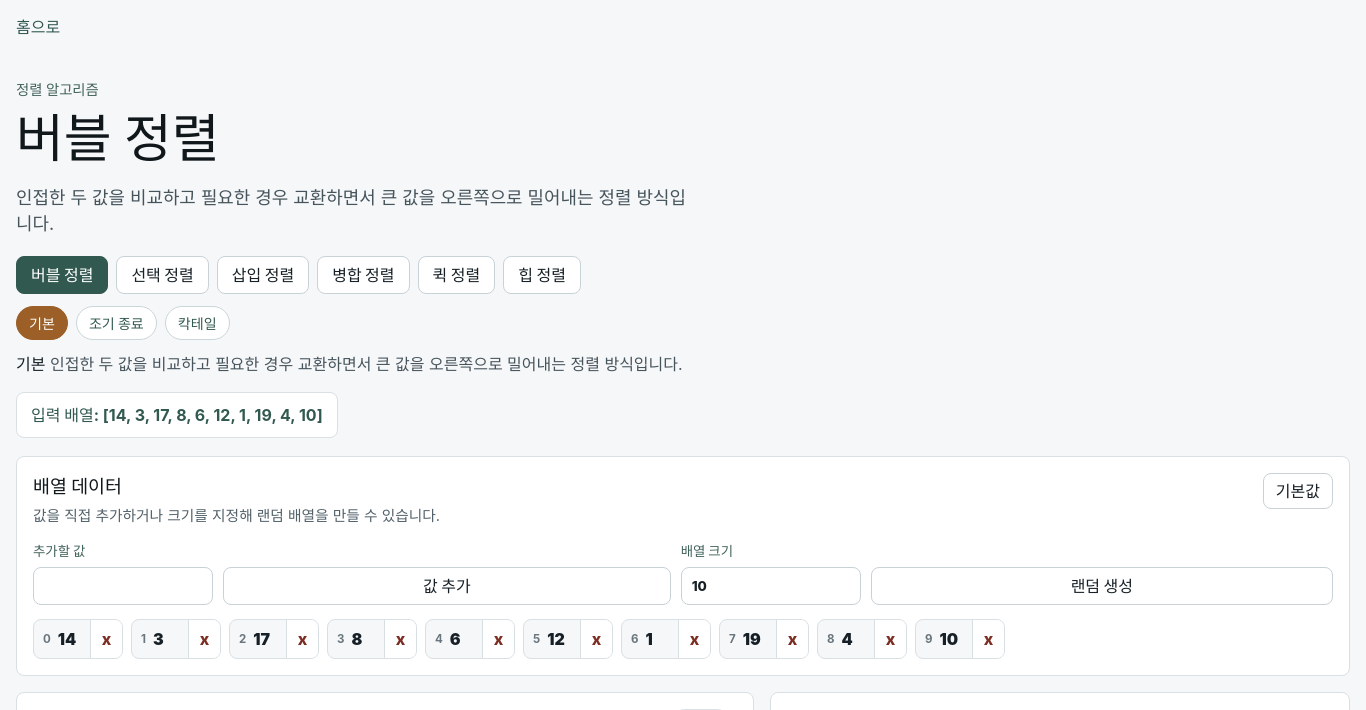
Test: SortingPage › switches to Selection Sort with synchronized code highlighting
What coordinates should you click on to do the following:
click the tab "선택 정렬"
I would click on:
 (163, 275)
Its box is [116,256,209,294].
(page scrolled)
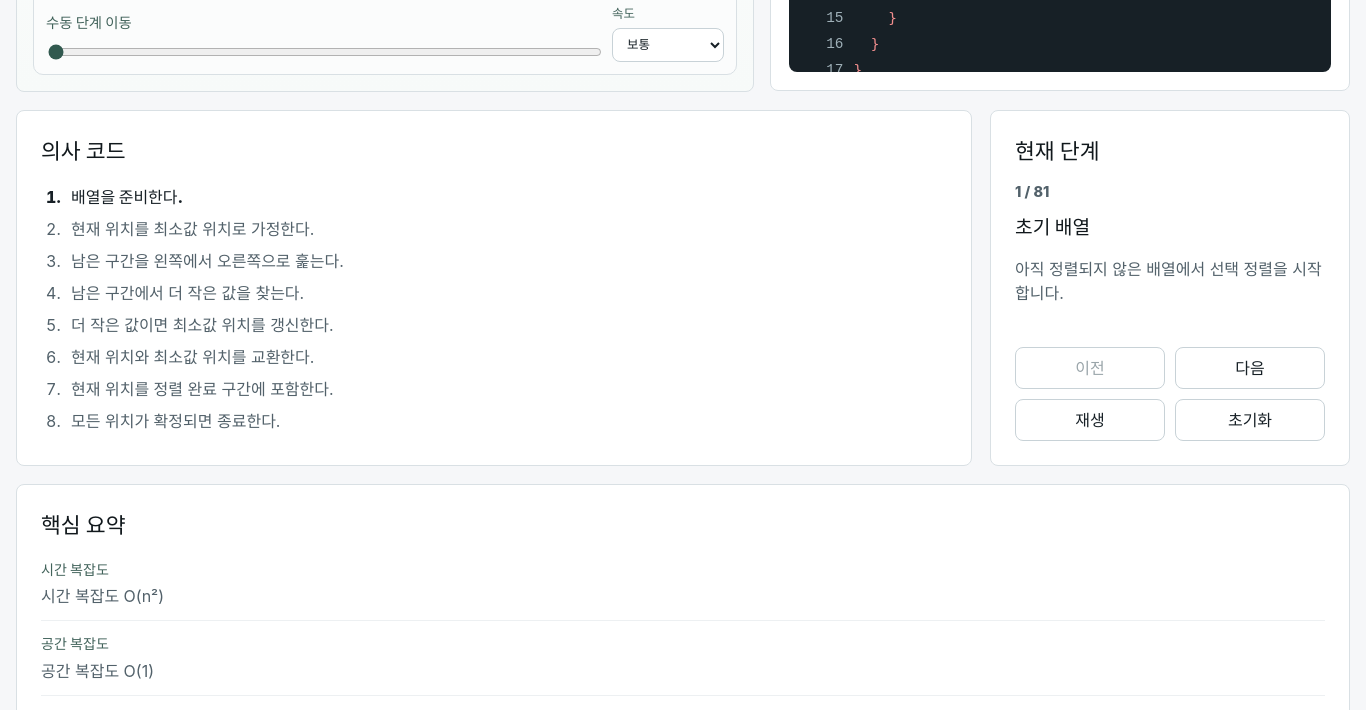
Expected: the heading "초기 배열" is shown, [1015,215,1090,239]
Expected: the button "이전" is disabled, [1015,347,1165,389]
What coordinates should you click on to do the following:
click the button "다음" below "아직 정렬되지 않은 배열에서 선택 정렬을 시작합니다."
I would click on:
 (1250, 368)
Its box is [1175,347,1325,389].
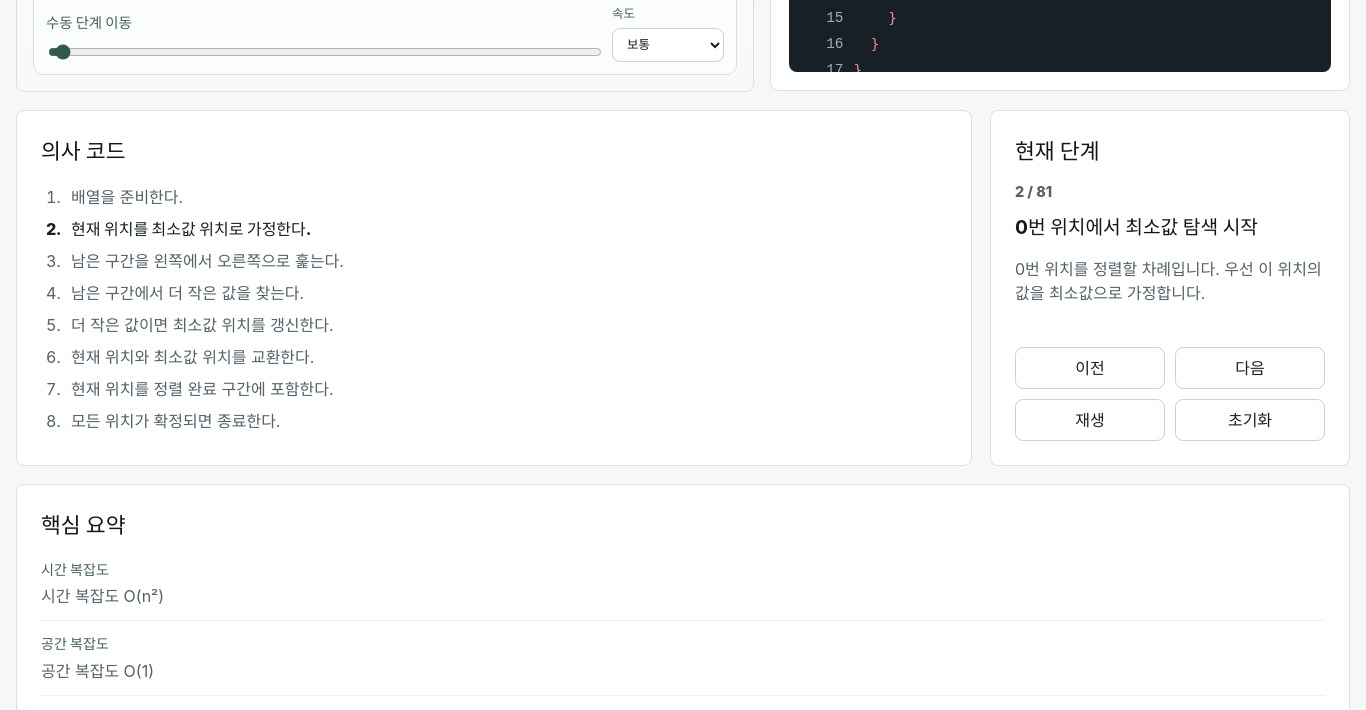
Result: the heading "0번 위치에서 최소값 탐색 시작" is shown at [1015,215,1258,239]
What coordinates should you click on to do the following:
click the button "다음" below "현재 단계"
I would click on:
 (1250, 368)
Its box is [1175,347,1325,389].
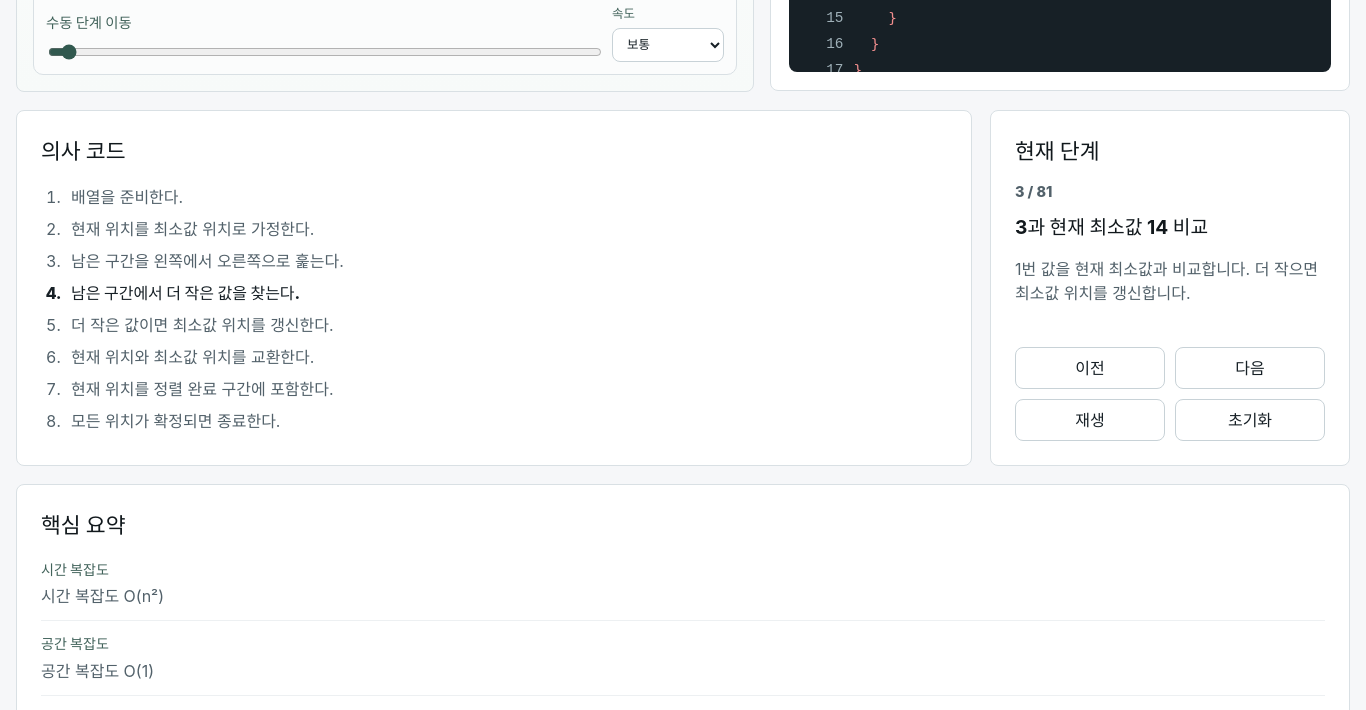
Result: the heading "3과 현재 최소값 14 비교" is shown at [1015,215,1208,239]
